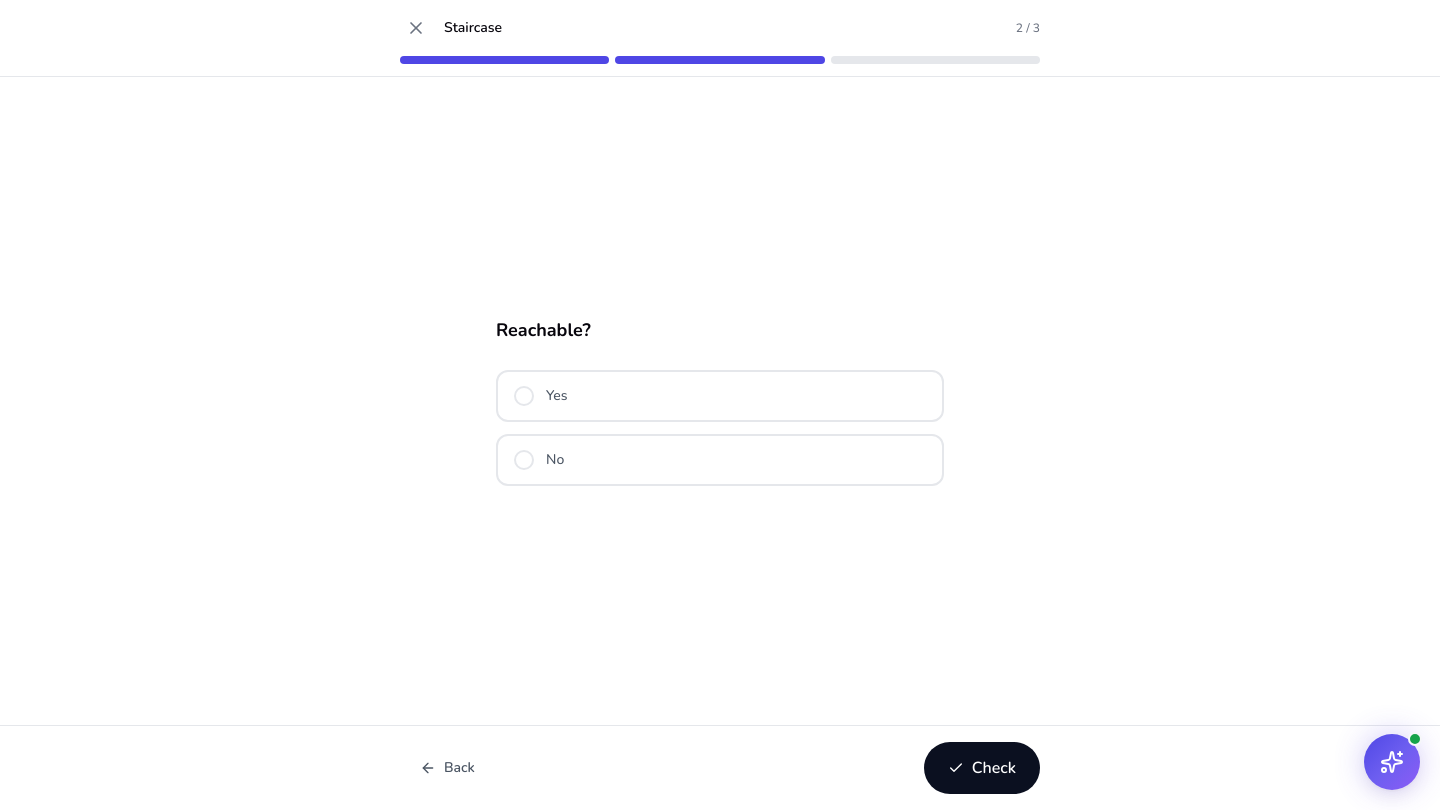
Scenario: LessonPlayer + tutor navigation › leads the learner to an earlier slide and offers a one-tap return
Expected: the text "Reachable?" is shown, [496,318,591,342]
Click the button named "open ai tutor": {"x": 1392, "y": 762} [1364,734,1420,790]
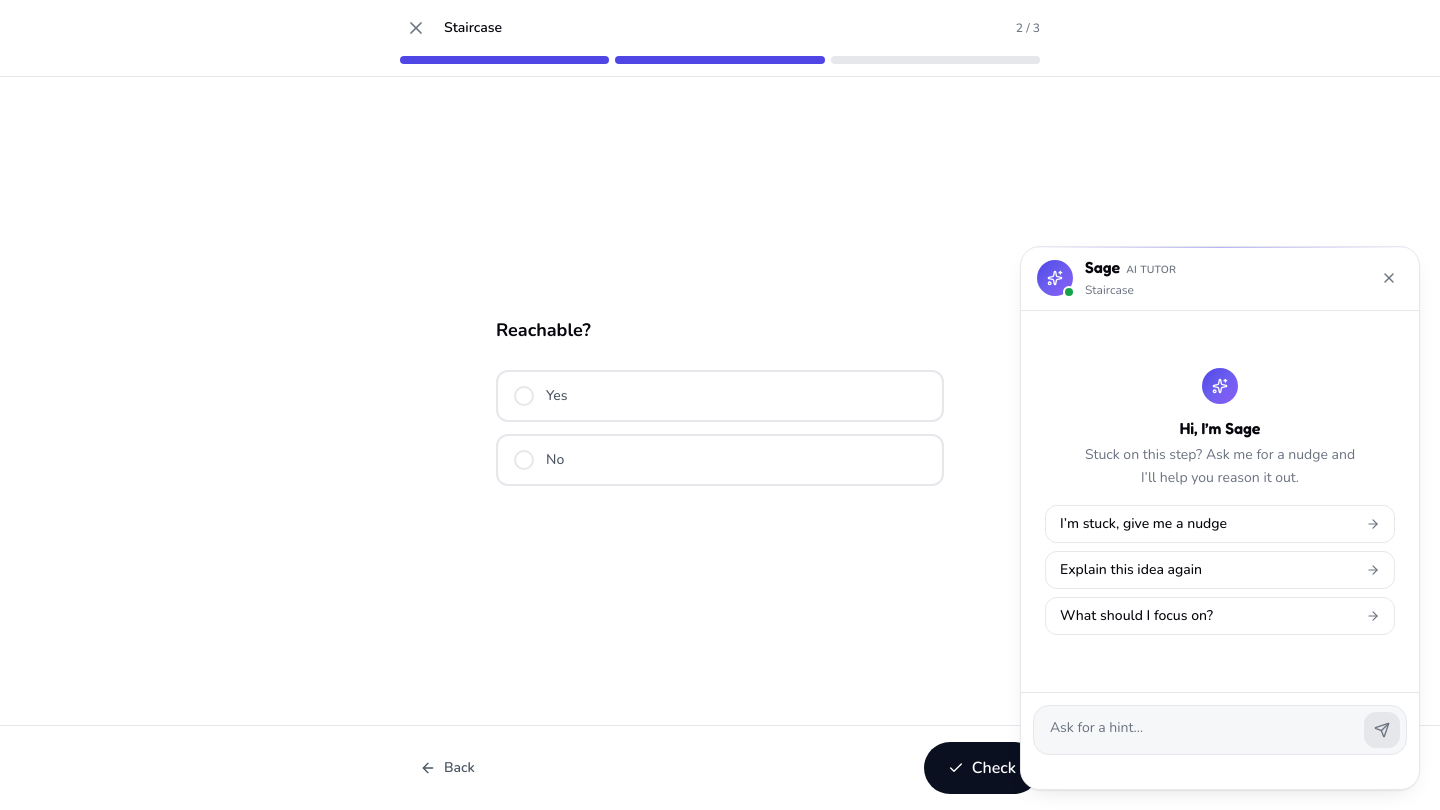
In the text box named "message the tutor": {"x": 1198, "y": 730} [1040,712,1356,748], type "help me"
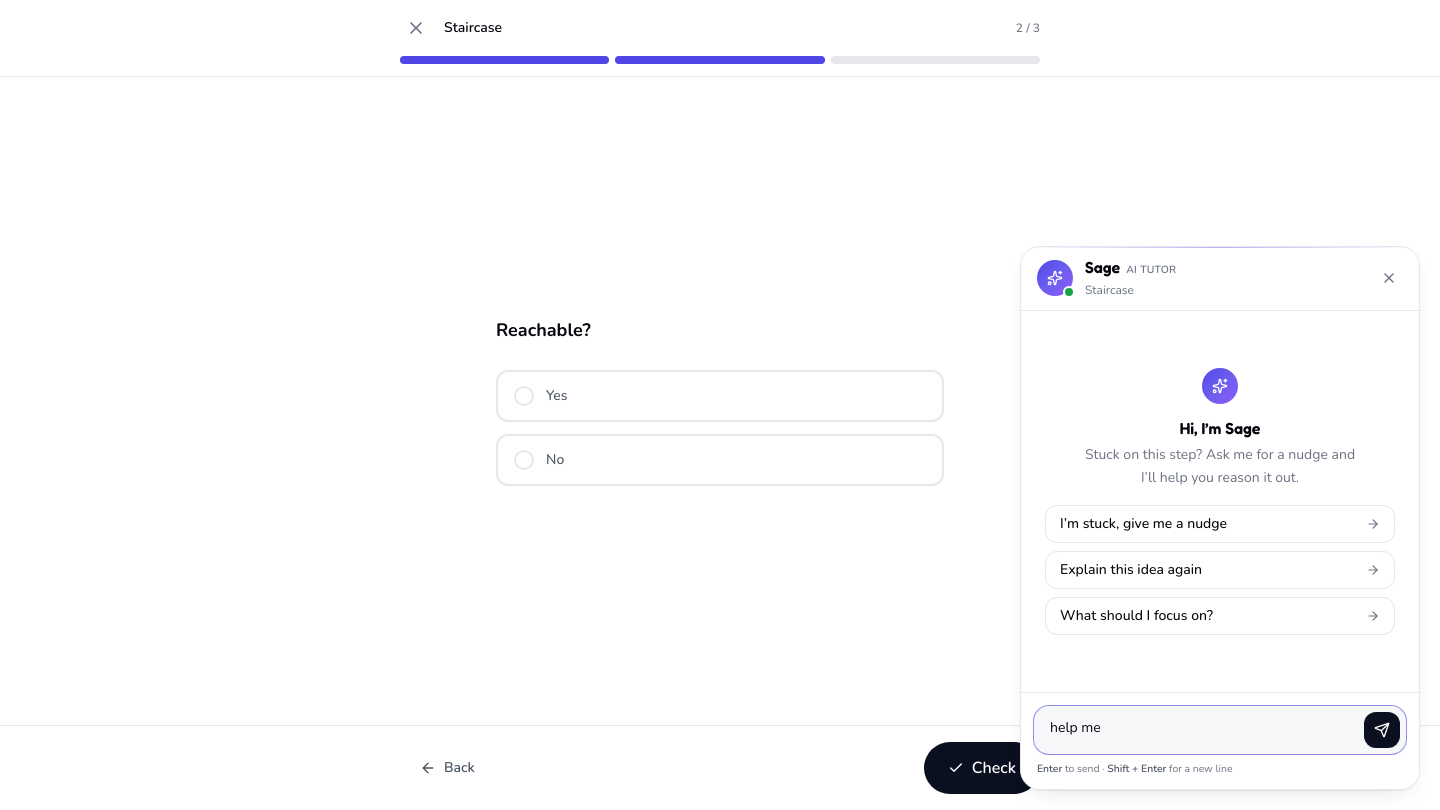
Click the button named "send message": {"x": 1382, "y": 730} [1364,712,1400,748]
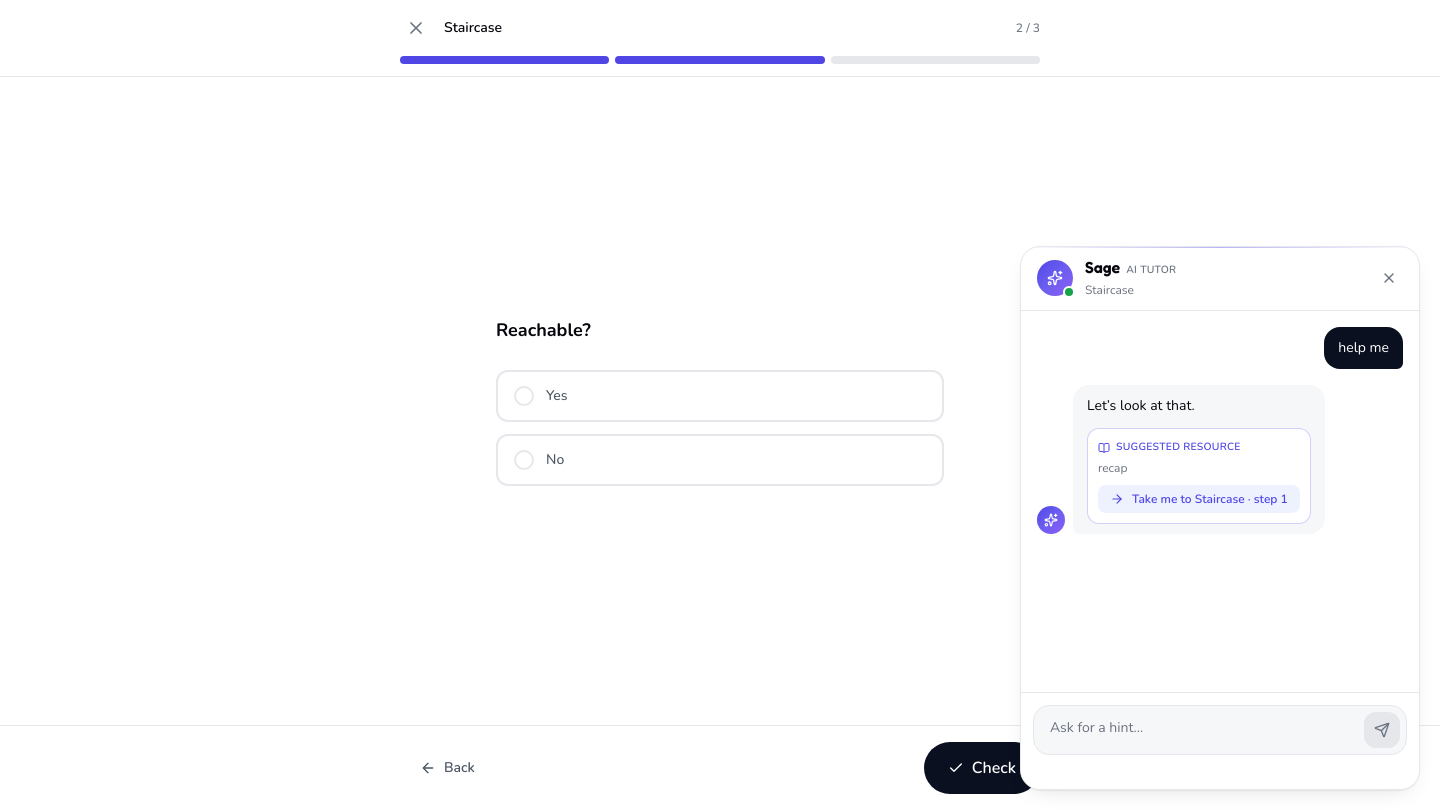
Click the button "Take me to Staircase · step 1": {"x": 1199, "y": 498} [1098,484,1300,512]
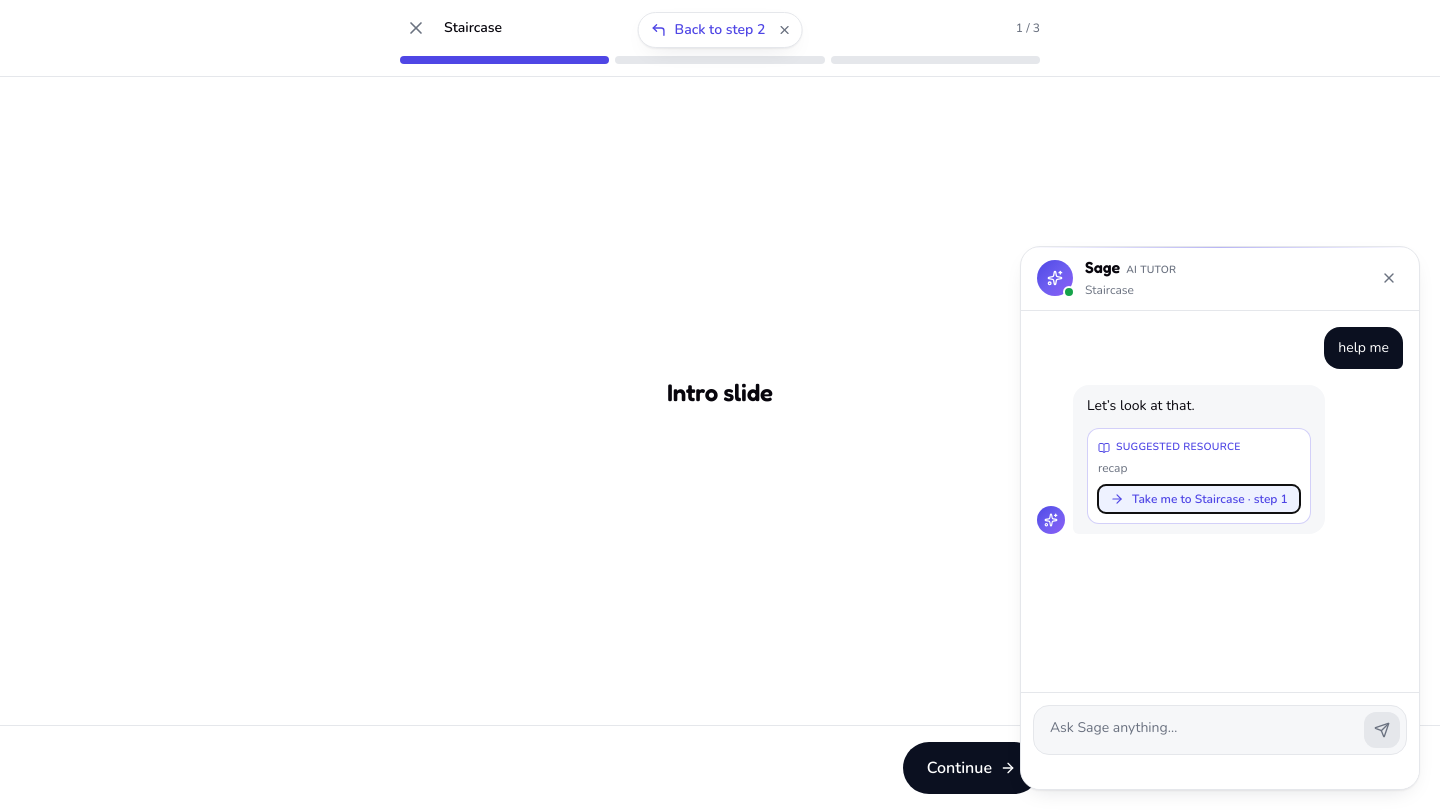
Expected: the heading "Intro slide" is shown, [667,378,773,407]
Click the button "Back to step 2": {"x": 708, "y": 30} [651,20,765,40]
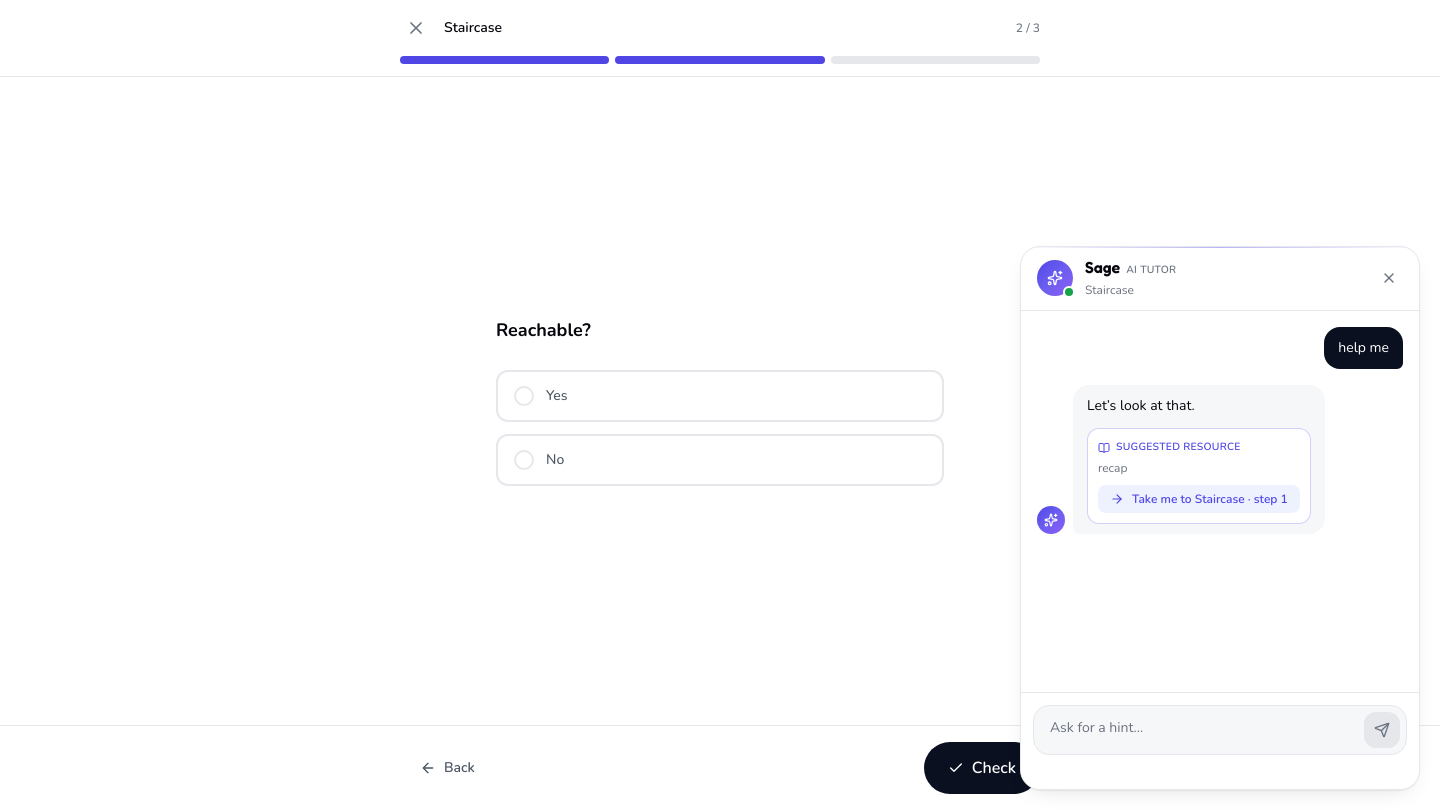
Expected: the text "Reachable?" is shown, [496,318,591,342]
